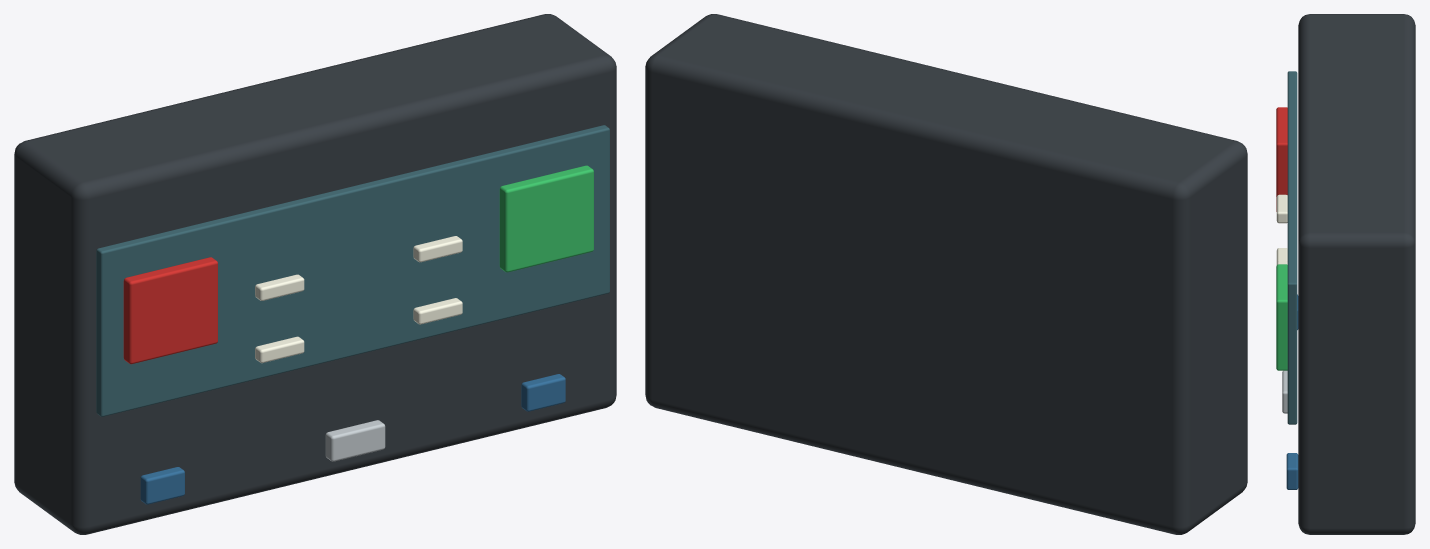
The model's file is fencing-club-and-tournament-piste-scoring-apparatus-2b9d2d0c__31212.glb.
The picture shows the model from 3 angles, left to right: view 1: azimuth 30°, elevation 25°; view 2: azimuth 150°, elevation 25°; view 3: azimuth 270°, elevation 25°; orthographic projection. The views are drawn at different scales.
Visible parts, largest first — view 1: scoring-apparatus; view 2: scoring-apparatus; view 3: scoring-apparatus.
Part boxes in pixels (x1=…): scoring-apparatus: x1=14, y1=14, x2=616, y2=534; scoring-apparatus: x1=645, y1=14, x2=1247, y2=534; scoring-apparatus: x1=1276, y1=14, x2=1415, y2=534.
Size of the model in its own units: 0.55 by 0.34 by 0.1425.
